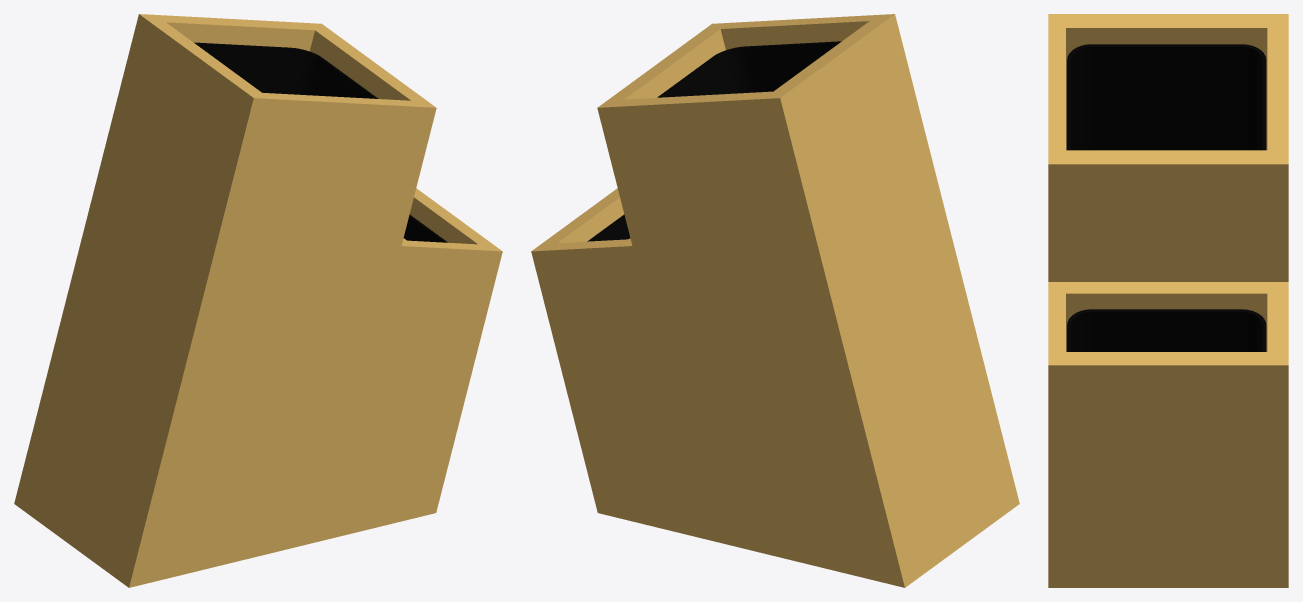
File: Knife_Holder_Flower_Pot.glb
3 renders of one model, left to right at view 1: azimuth 30°, elevation 25°; view 2: azimuth 150°, elevation 25°; view 3: azimuth 270°, elevation 25°, orthographic. The views are drawn at different scales.
Visible parts, largest first — view 1: Body, Insert_Big, Insert_Small; view 2: Body, Insert_Big; view 3: Body, Insert_Big, Insert_Small.
Part boxes in pixels (x1,y1,x2,y2): Body: (14,14,502,587); Insert_Big: (194,42,378,98); Insert_Small: (403,214,447,242); Body: (531,14,1019,587); Insert_Big: (657,41,841,97); Body: (1048,14,1288,587); Insert_Big: (1067,44,1266,150); Insert_Small: (1067,309,1266,351).
Size of the model in its own units: 0.2028 by 0.2382 by 0.108.
